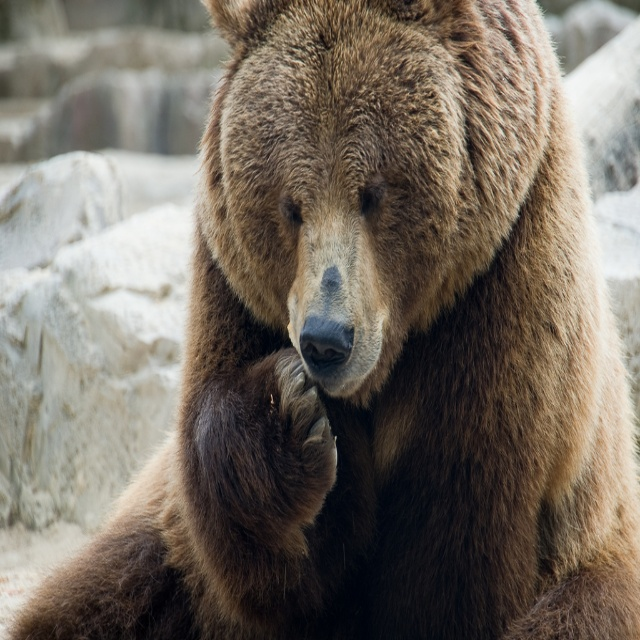Brown bear: (2, 0, 639, 639)
